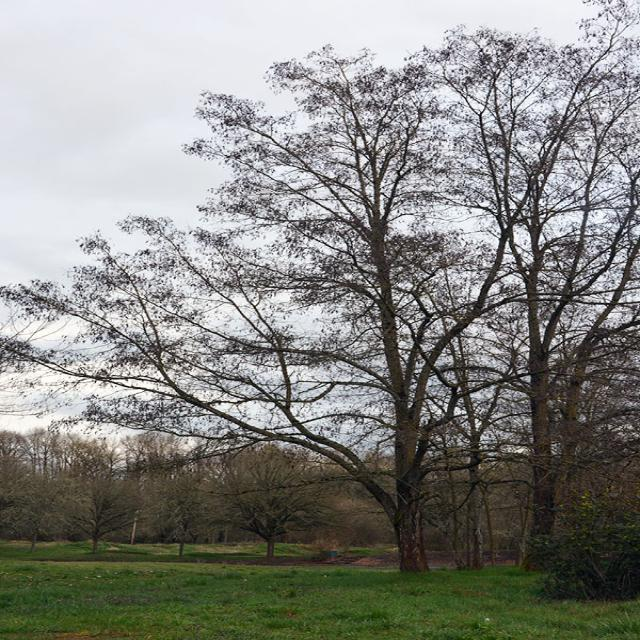Robinia pseudoacacia: (0, 46, 550, 585), (439, 4, 640, 574)
